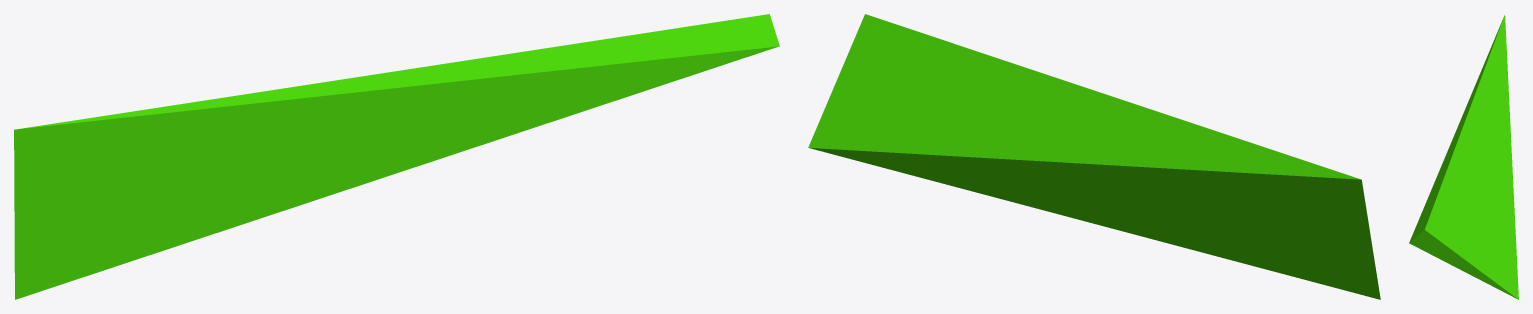
File: torso_convex_piece_061.obj
3 views of the same model, side by side, from view 1: azimuth 30°, elevation 25°; view 2: azimuth 150°, elevation 25°; view 3: azimuth 270°, elevation 25° (orthographic). The views are drawn at different scales.
Size of the model in its own units: 0.054 by 0.0116 by 0.0117.
